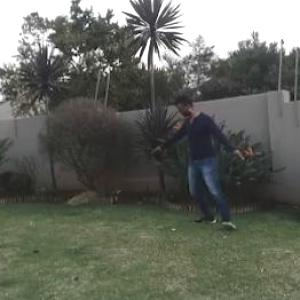land: (130, 79, 267, 246)
